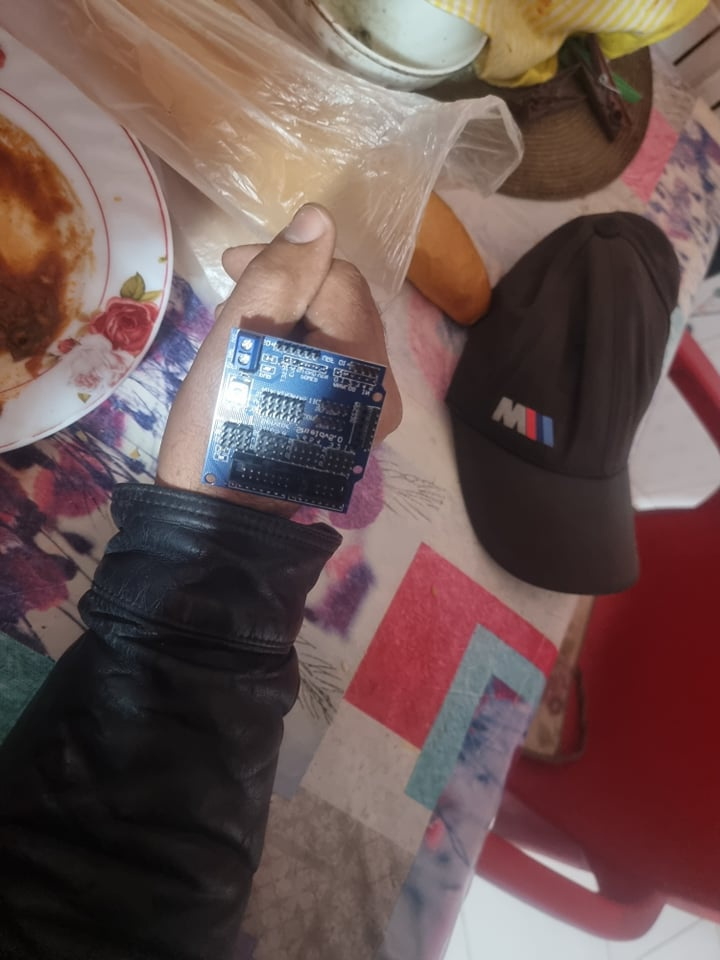5V EXPANSION: (198, 322, 391, 515)
